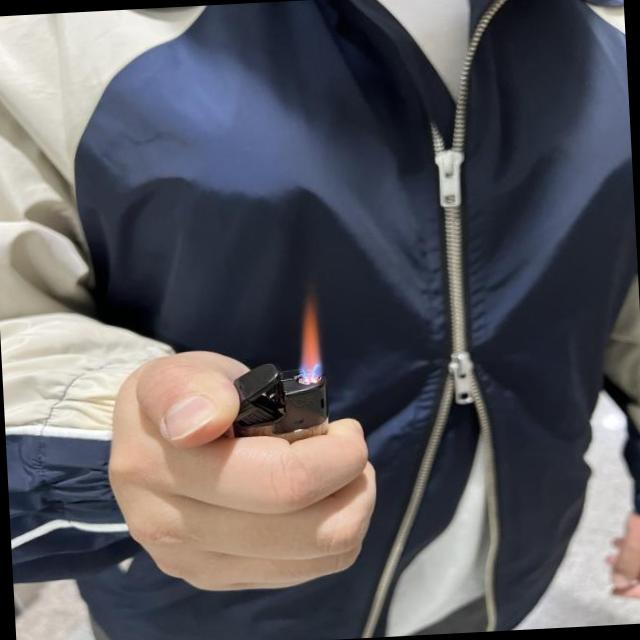Fire: (292, 300, 322, 378)
